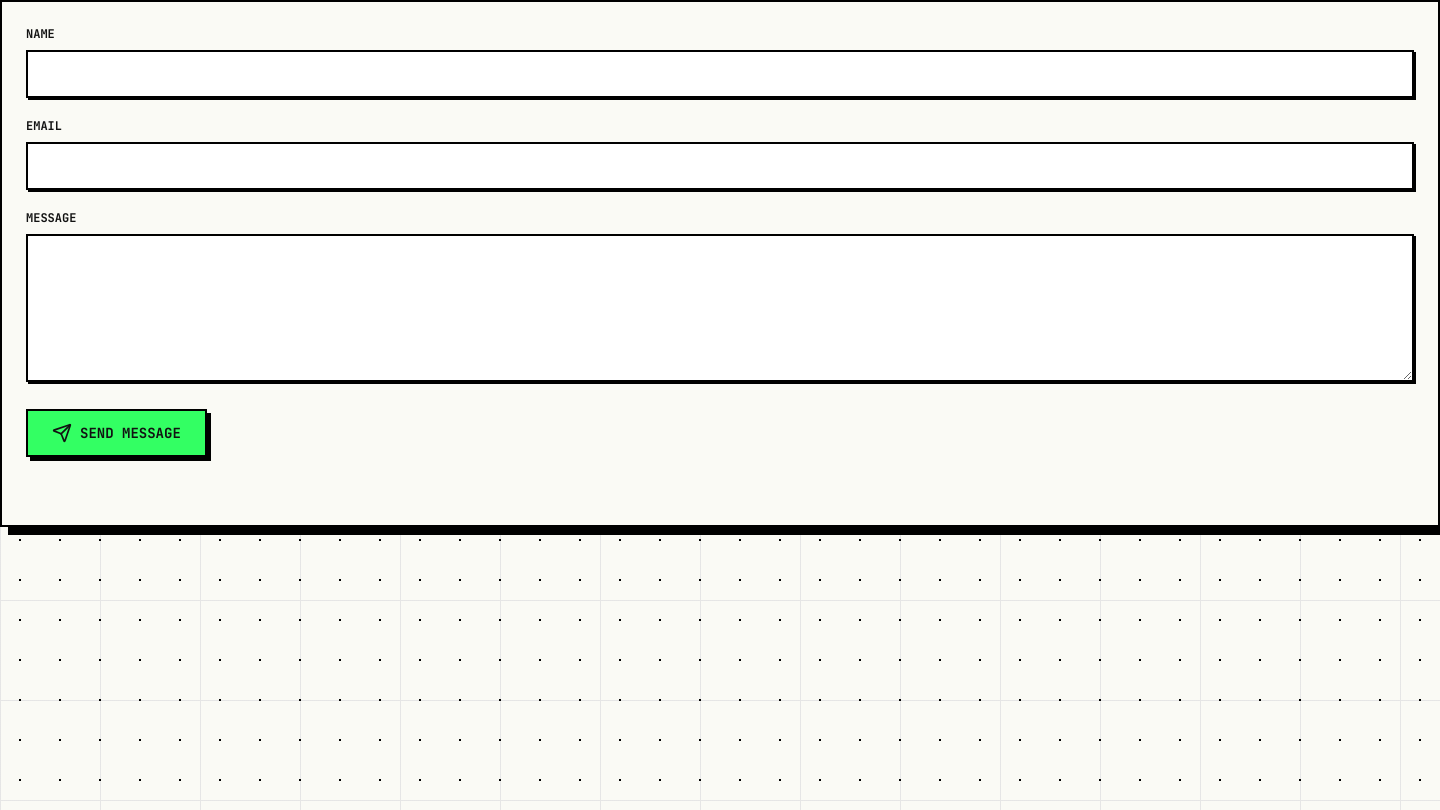
Test: ContactForm › shows field errors and does not open the mail client when invalid
Click the button "SEND MESSAGE" at coordinates (116, 433), box [26,409,207,457]
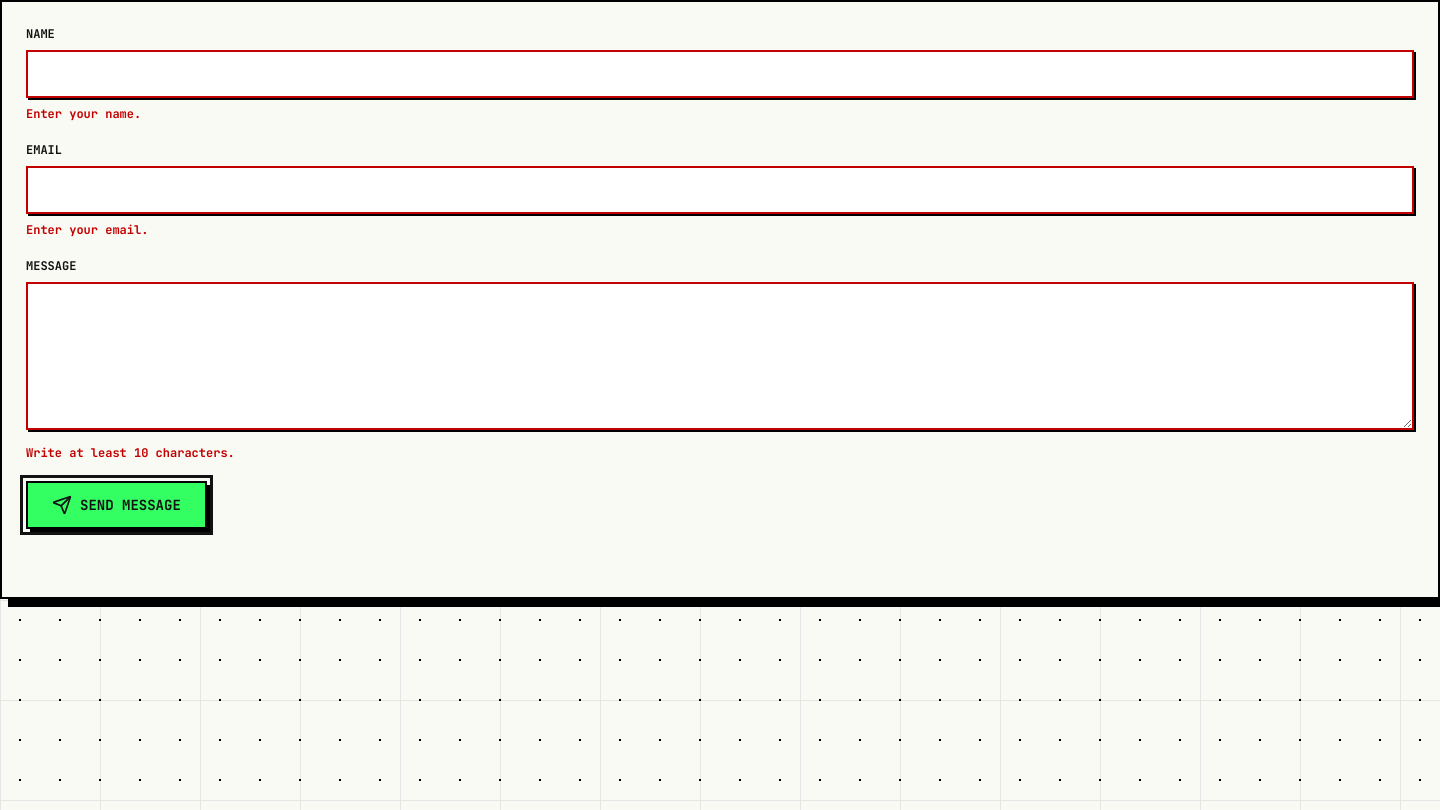
Expected: the text "Enter your name." is shown, [26,106,141,122]
Expected: the text "Enter your email." is shown, [26,222,148,238]
